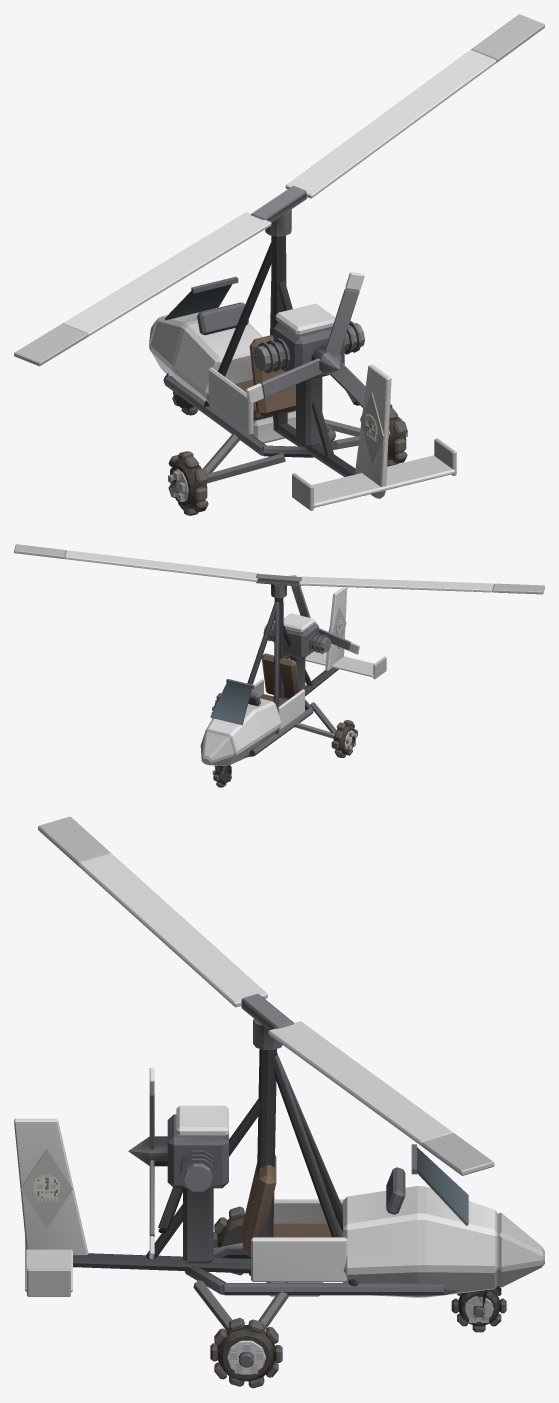
File: wasteland_gyrocopter.glb
3 renders of one model, top to bottom at view 1: azimuth 30°, elevation 25°; view 2: azimuth 150°, elevation 25°; view 3: azimuth 270°, elevation 25°, orthographic. The views are drawn at different scales.
Parts seen in each view (by area): view 1: Accent, Neutral; view 2: Accent, Neutral; view 3: Accent, Neutral.
Part boxes in pixels (x1,y1,x2,y2): Accent: (14, 14, 544, 510); Neutral: (163, 185, 407, 515); Accent: (14, 544, 544, 766); Neutral: (210, 573, 357, 787); Accent: (14, 816, 544, 1374); Neutral: (33, 994, 506, 1388).
Bounding box in the file's own units: 4.23 × 1.8 × 2.42.
